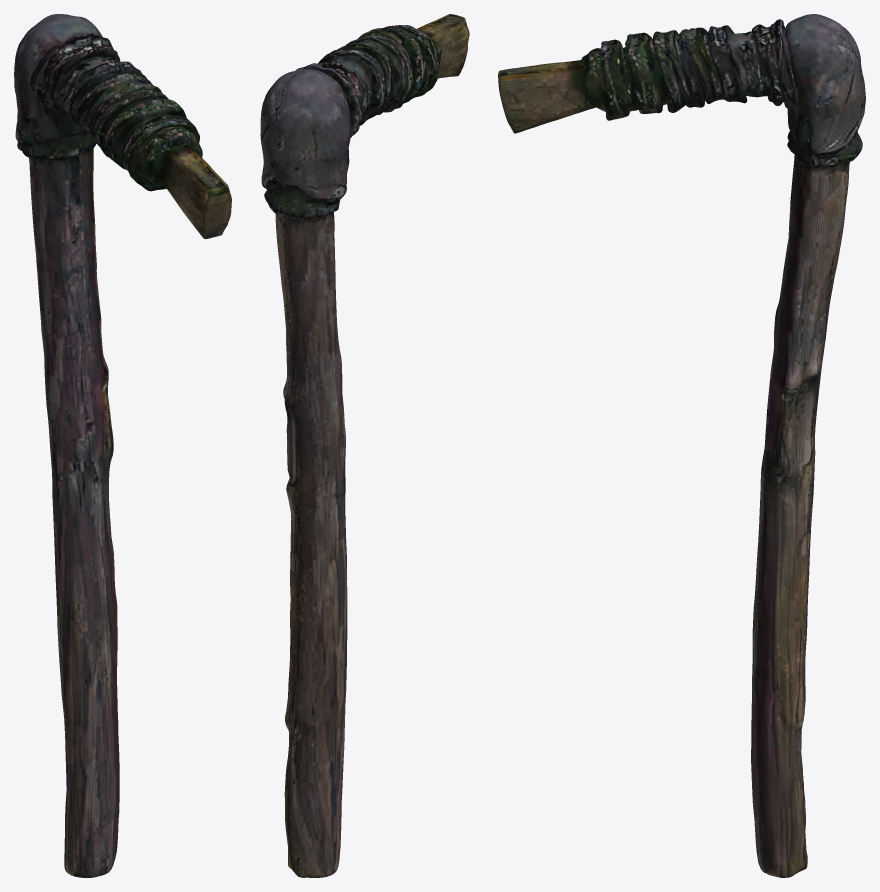
The model's file is axe.glb.
3 renders of one model, left to right at view 1: azimuth 30°, elevation 25°; view 2: azimuth 150°, elevation 25°; view 3: azimuth 270°, elevation 25°, orthographic. The views are drawn at different scales.
Visible parts, largest first — view 1: tripo_node_b857e69c-a3b0-44d1-b145-3c529b4c53f8; view 2: tripo_node_b857e69c-a3b0-44d1-b145-3c529b4c53f8; view 3: tripo_node_b857e69c-a3b0-44d1-b145-3c529b4c53f8.
Boxes of the visible parts, x1,y1,x2,y2 form: tripo_node_b857e69c-a3b0-44d1-b145-3c529b4c53f8: (14, 14, 231, 877); tripo_node_b857e69c-a3b0-44d1-b145-3c529b4c53f8: (260, 14, 469, 877); tripo_node_b857e69c-a3b0-44d1-b145-3c529b4c53f8: (498, 14, 865, 877).
Bounding box in the file's own units: 0.1072 × 0.9999 × 0.3942.
Materials: 1 (1 with a texture image).
